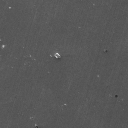corrosion: (53, 52, 61, 60), (113, 93, 120, 100), (104, 48, 109, 53), (2, 44, 6, 48), (8, 6, 11, 9)
